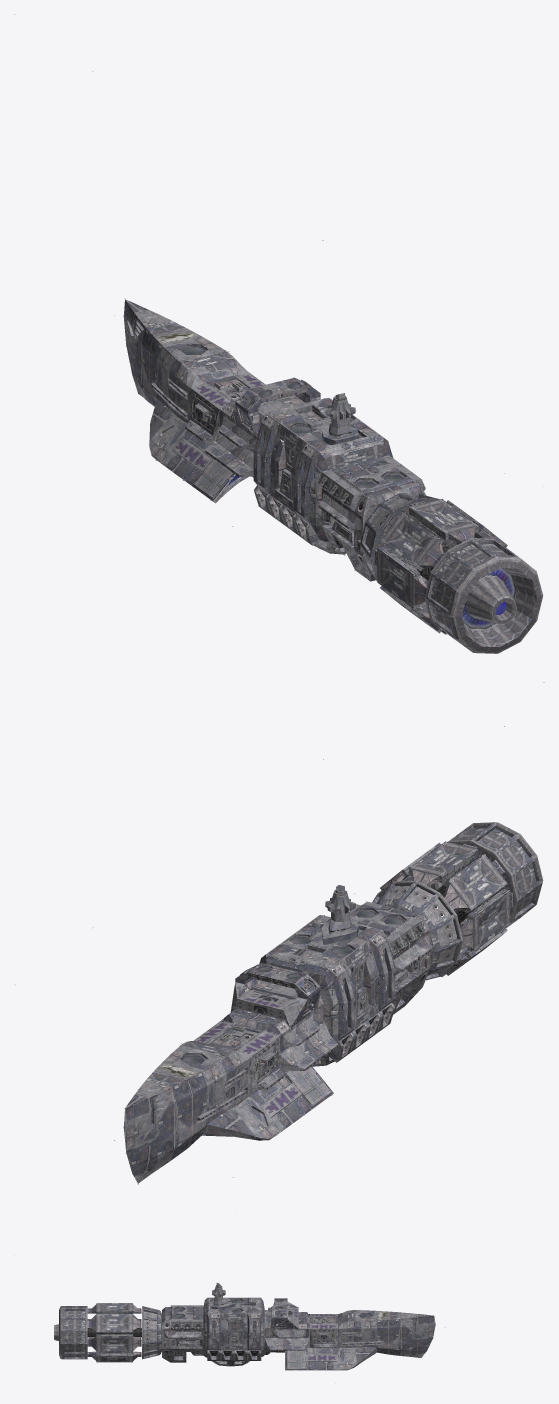
File: Dreadnaught.obj
3 renders of one model, top to bottom at view 1: azimuth 30°, elevation 25°; view 2: azimuth 150°, elevation 25°; view 3: azimuth 270°, elevation 25°, orthographic. The views are drawn at different scales.
Visible parts, largest first — view 1: Li_frnt, Li_engine, Li_dreadnought, Li_rear, Li_port_skid, Li_nose, Leaf06_d1, Li_reactor, Leaf07_d1, Leaf05_d1, Li_cntrltwr; view 2: Li_frnt, Li_dreadnought, Li_nose, Li_port_skid, Li_engine, Li_rear, Li_reactor, Leaf06_d1, Leaf07_d1, Leaf05_d1, Li_cntrltwr; view 3: Li_frnt, Li_dreadnought, Li_rear, Li_nose, Li_starboard_skid, Li_engine, Li_reactor, Leaf04_d1, Leaf03_d1, Leaf05_d1, Leaf02_d1, Li_cntrltwr.
Boxes of the visible parts, x1,y1,x2,y2 form: Li_frnt: (149, 328, 320, 477); Li_engine: (424, 538, 543, 653); Li_dreadnought: (253, 397, 393, 545); Li_rear: (317, 455, 426, 581); Li_port_skid: (149, 399, 248, 503); Li_nose: (123, 299, 186, 405); Leaf06_d1: (380, 511, 443, 571); Li_reactor: (360, 493, 456, 585); Leaf07_d1: (374, 546, 426, 608); Leaf05_d1: (409, 499, 478, 543); Li_cntrltwr: (322, 393, 358, 445); Li_frnt: (154, 963, 338, 1147); Li_dreadnought: (259, 915, 395, 1062); Li_nose: (123, 1071, 192, 1183); Li_port_skid: (202, 1066, 333, 1140); Li_engine: (430, 822, 543, 928); Li_rear: (350, 901, 432, 1014); Li_reactor: (372, 880, 462, 980); Leaf06_d1: (443, 853, 507, 913); Leaf07_d1: (460, 889, 512, 951); Leaf05_d1: (409, 841, 478, 885); Li_cntrltwr: (322, 885, 358, 944); Li_frnt: (264, 1298, 388, 1354); Li_dreadnought: (203, 1297, 264, 1360); Li_rear: (162, 1305, 203, 1362); Li_nose: (388, 1311, 435, 1357); Li_starboard_skid: (285, 1347, 376, 1370); Li_engine: (54, 1306, 87, 1359); Li_reactor: (142, 1306, 161, 1359); Leaf04_d1: (87, 1314, 141, 1333); Leaf03_d1: (87, 1334, 141, 1353); Leaf05_d1: (87, 1303, 141, 1313); Leaf02_d1: (87, 1353, 141, 1362); Li_cntrltwr: (211, 1283, 235, 1309).
Bounding box in the file's own units: 92.53 × 253 × 690.
